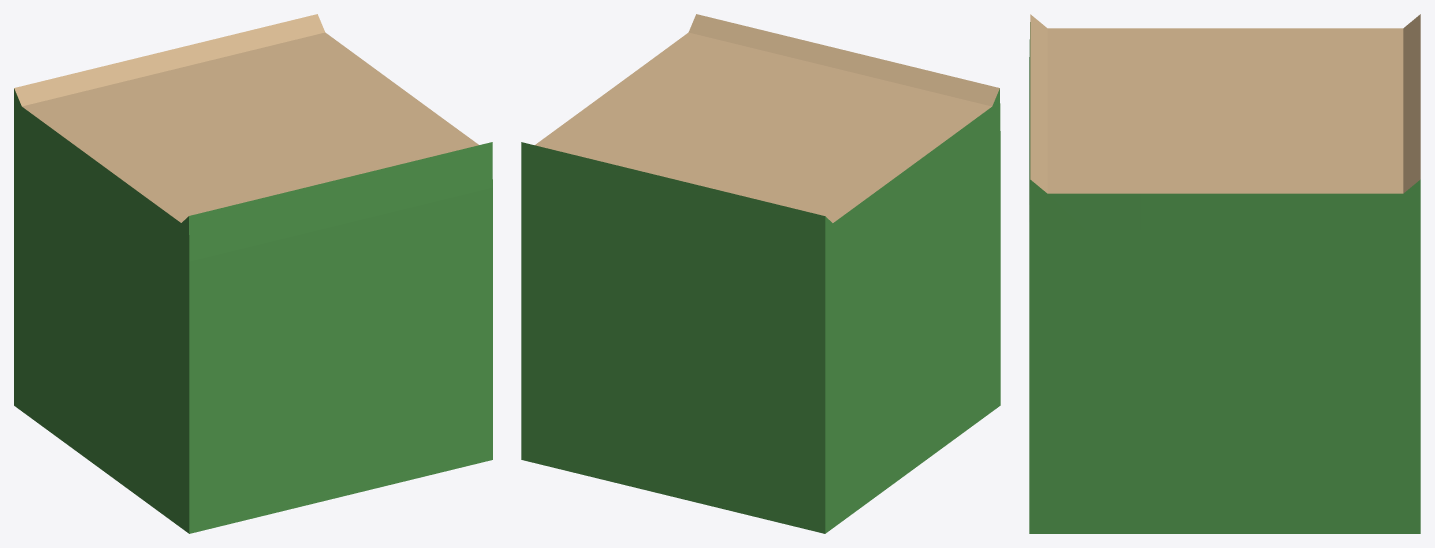
The model's file is RoadV1.fbx.
3 renders of one model, left to right at view 1: azimuth 30°, elevation 25°; view 2: azimuth 150°, elevation 25°; view 3: azimuth 270°, elevation 25°, orthographic. The views are drawn at different scales.
Parts seen in each view (by area): view 1: Cube.001; view 2: Cube.001; view 3: Cube.001.
Part boxes in pixels (x1=…): Cube.001: x1=14, y1=14, x2=492, y2=533; Cube.001: x1=521, y1=14, x2=1000, y2=533; Cube.001: x1=1029, y1=14, x2=1420, y2=533.
Size of the model in its own units: 100 by 100 by 100.
